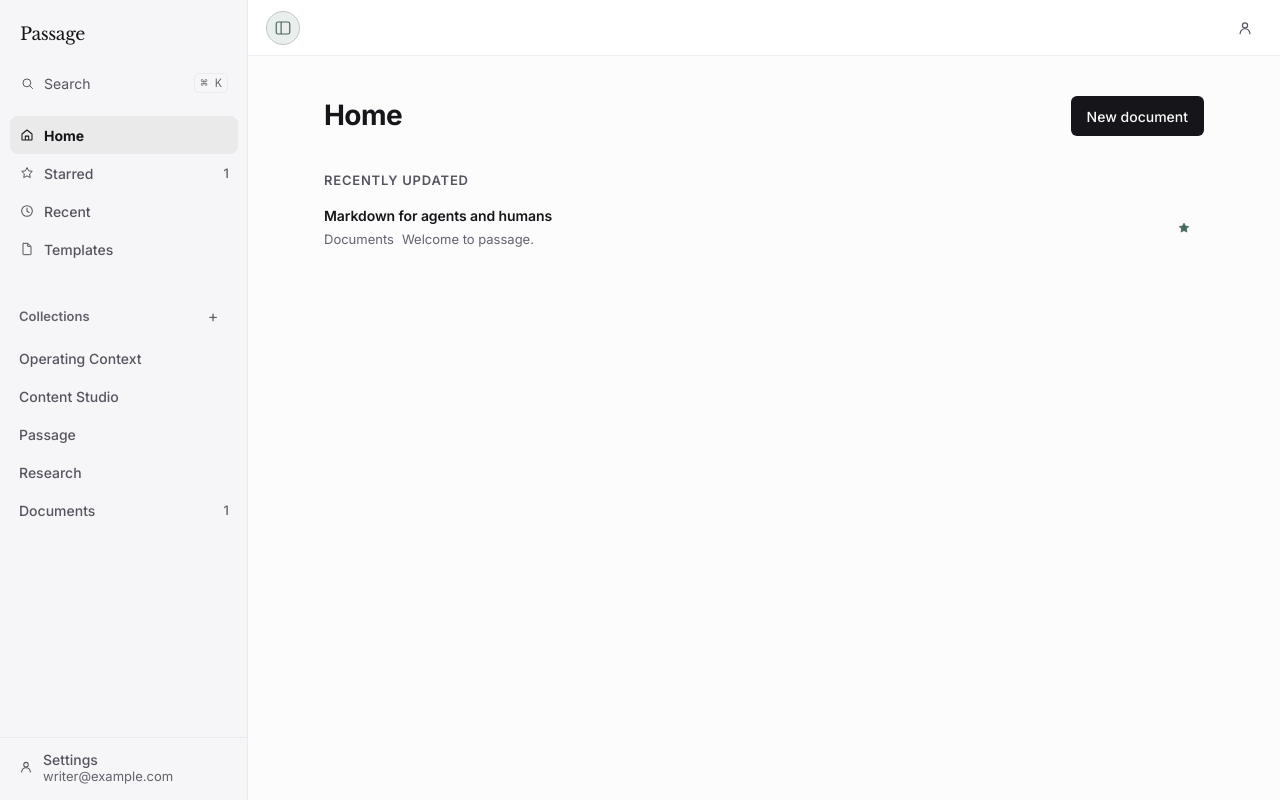
Write (editor) › keeps a template visible when deletion fails
The width and height of the screenshot is (1280, 800).
Click the button with class "workspaceDocumentOpen" at (438,216), box [324,194,1168,262]
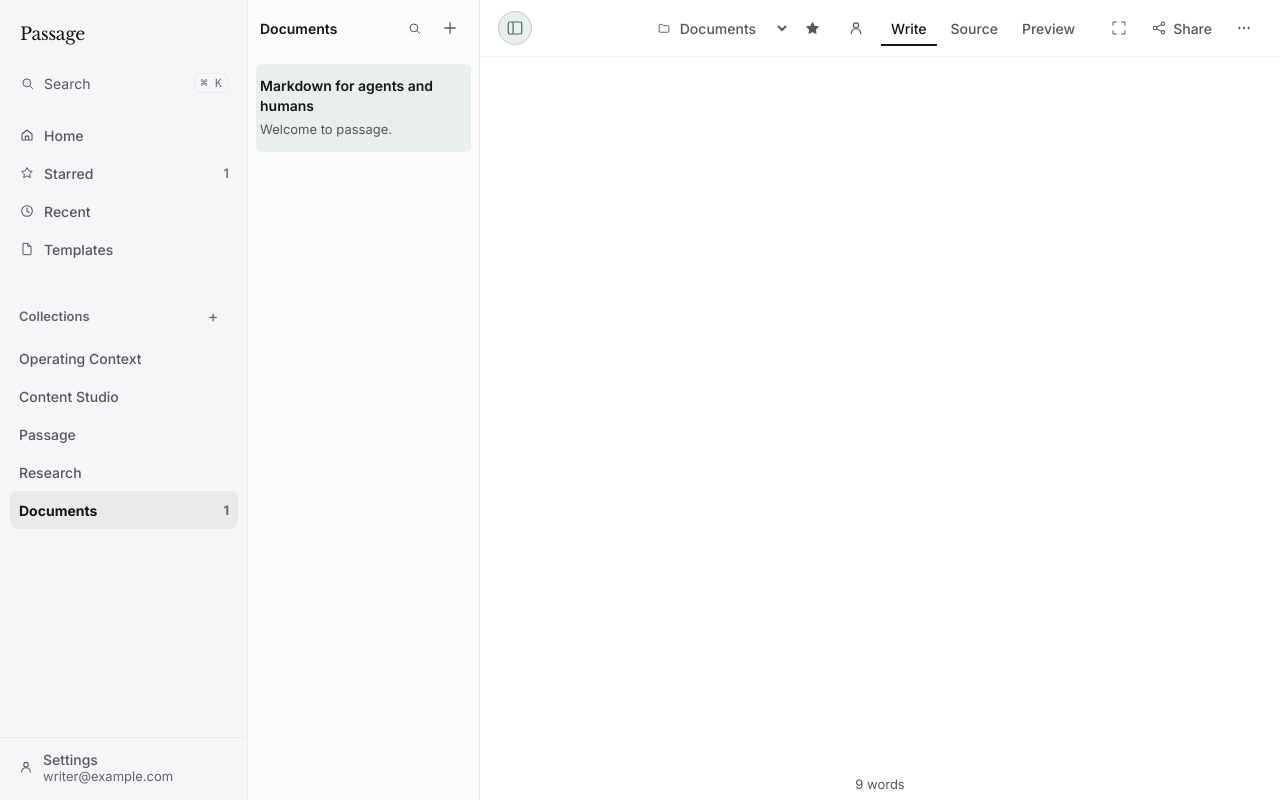
Click the button "Templates" at (124,249), box [10,230,238,268]
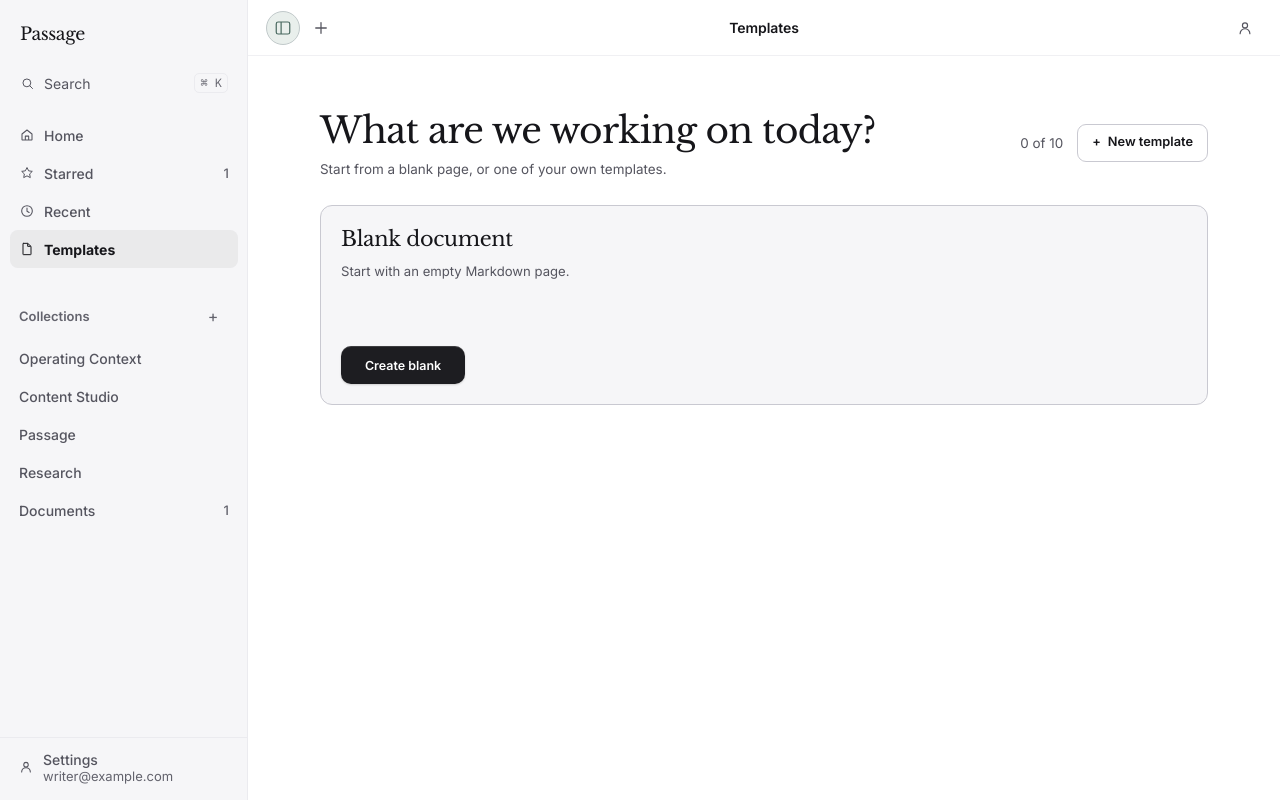
Click the button "+ New template" at (1143,142), box [1077,124,1208,162]
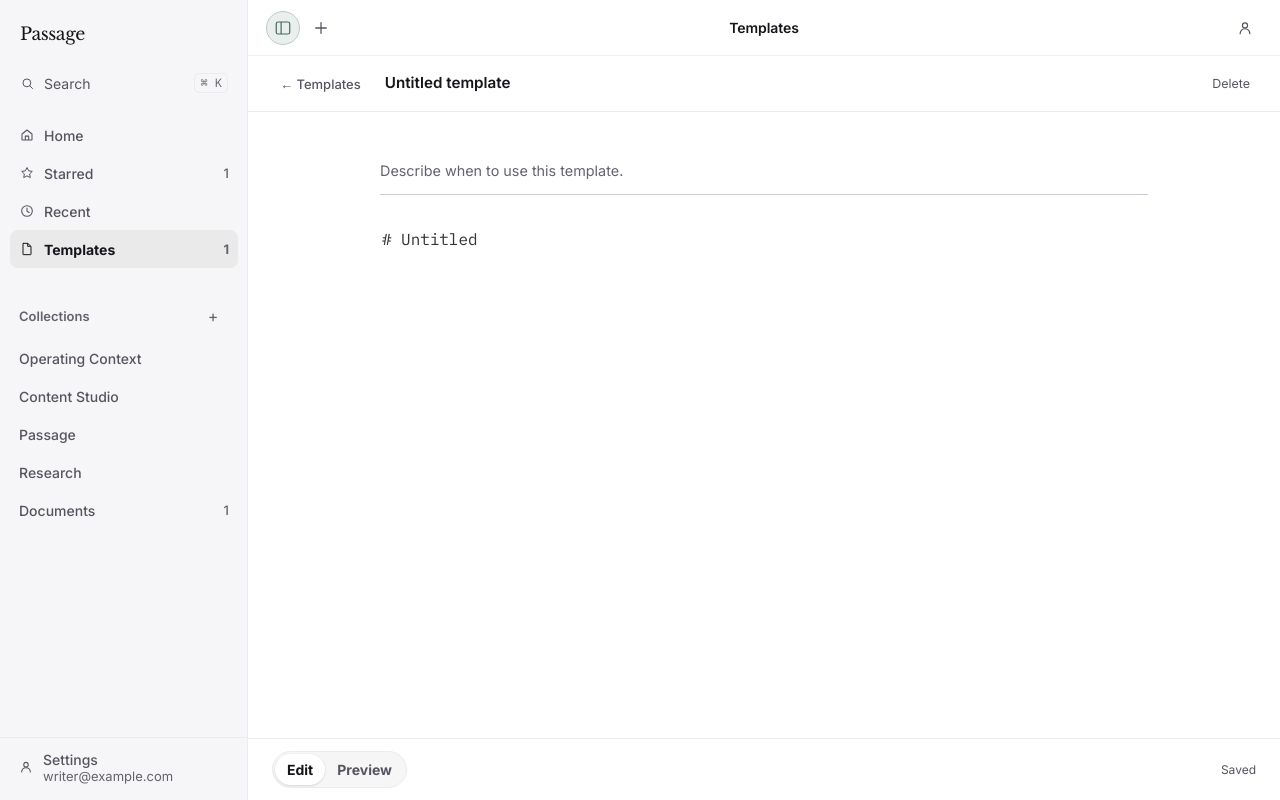
Expected: the field named "Template title" is shown, [383,68,1192,99]
Click the button with aria-label "Back to templates" at (320,84), box [272,70,369,98]
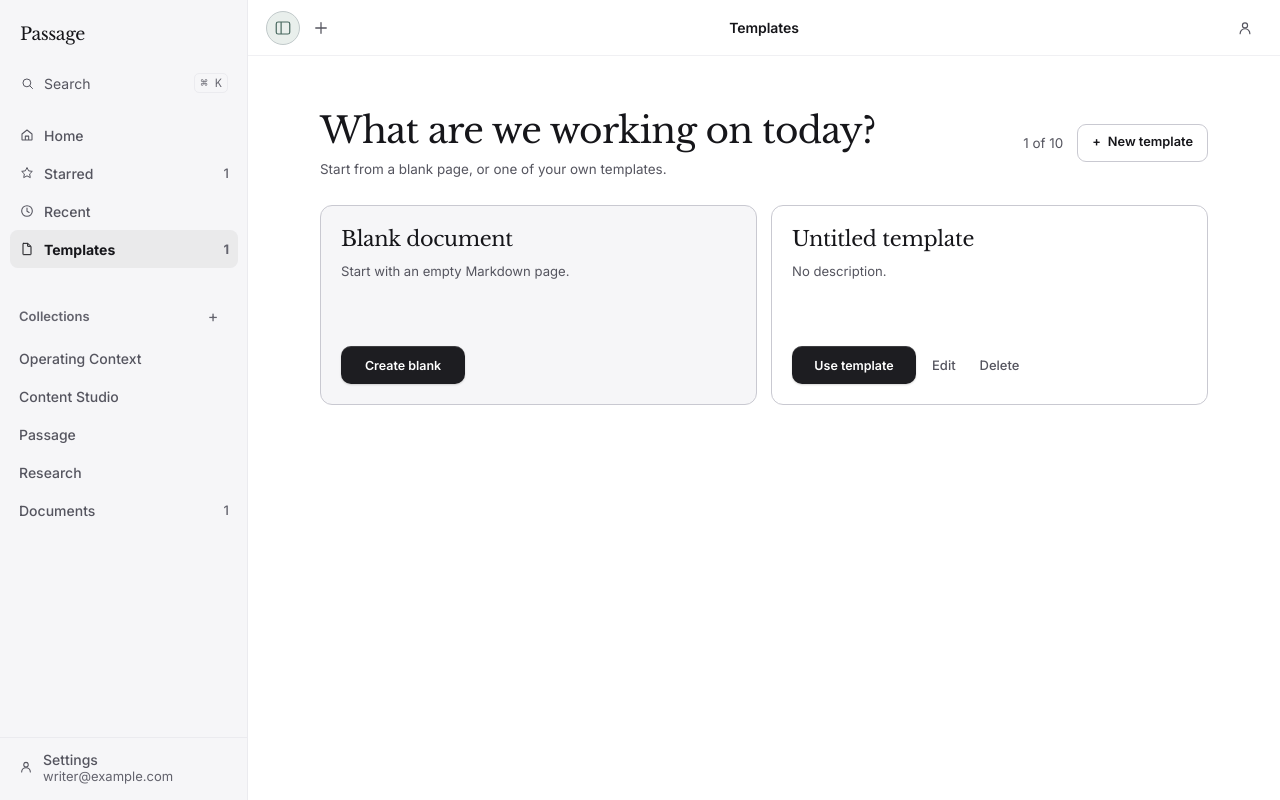
Click the button with aria-label "Delete Untitled template" at (1000,365), box [972,351,1028,379]
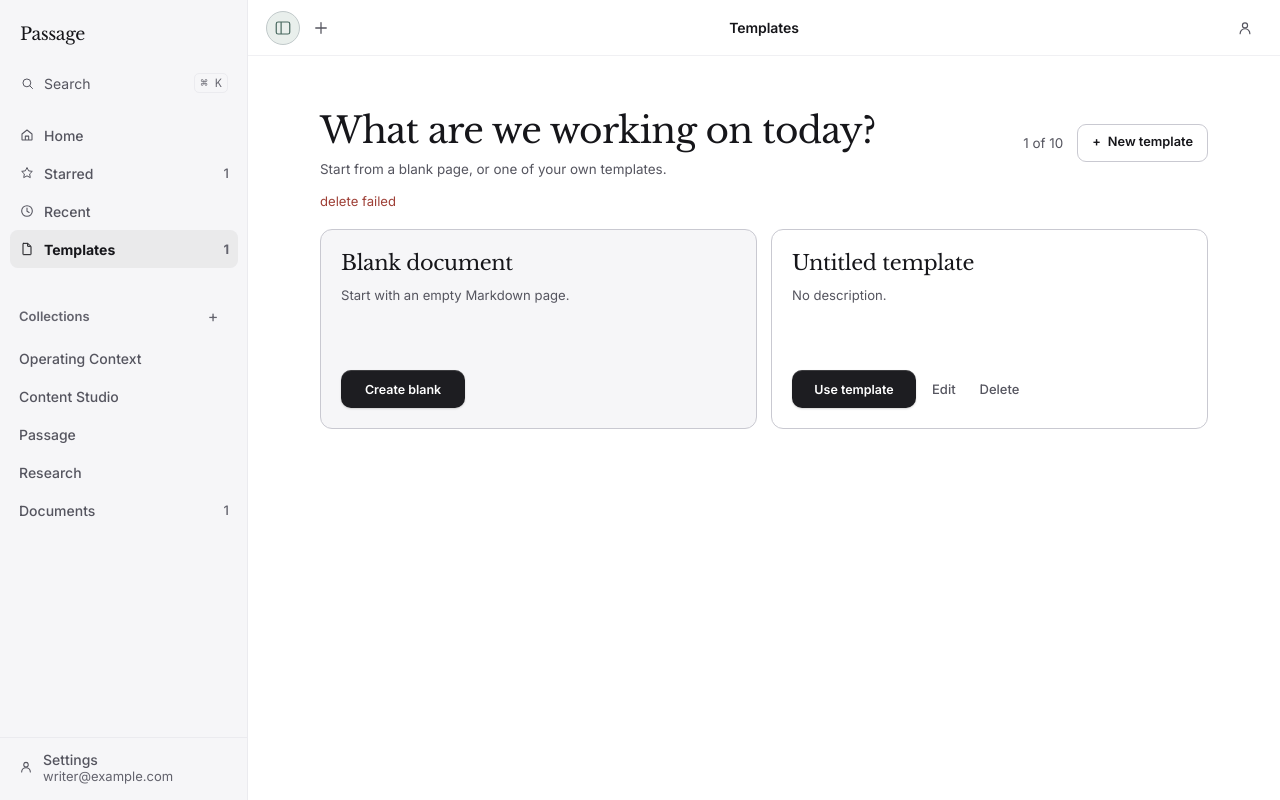
Expected: the heading "Untitled template" is shown, [792,250,974,276]
Expected: the text "1 of 10" is shown, [1023,134,1063,150]
Expected: the message reads "delete failed", [320,193,396,209]
